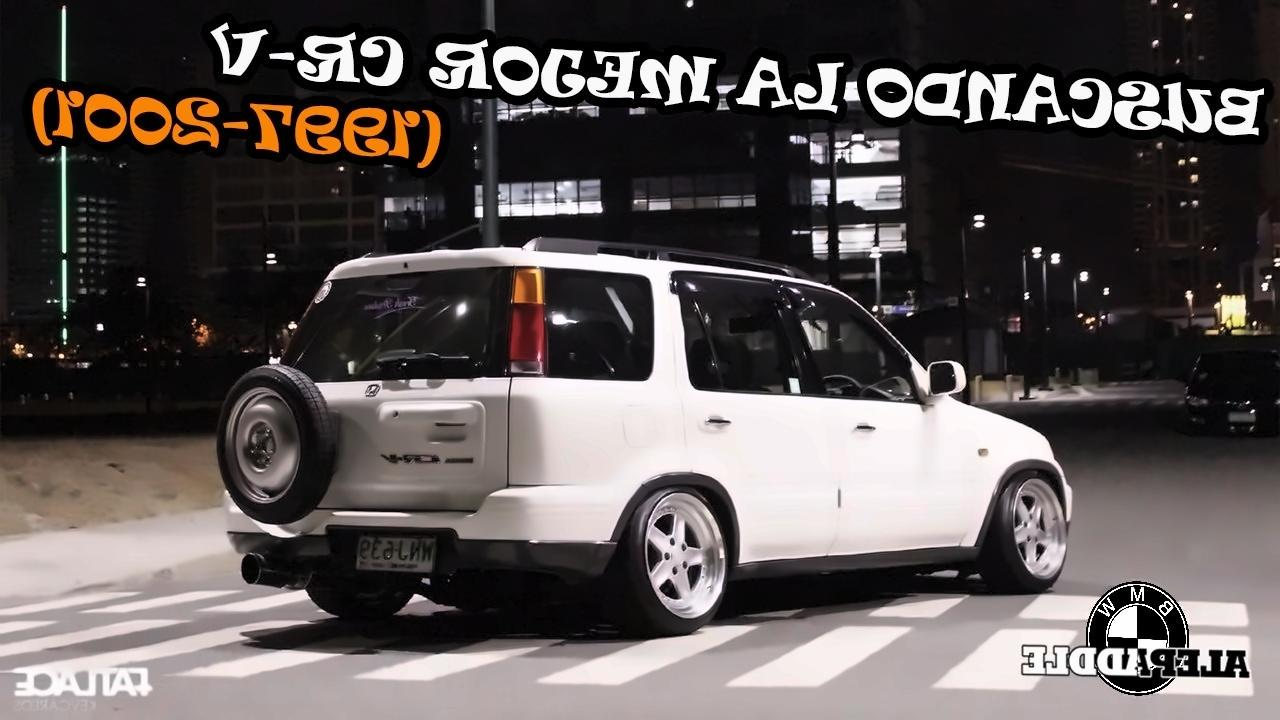Car boot: (271, 252, 515, 520)
Driver-s door - -F-R-: (791, 278, 957, 565)
Fender - -F-R-: (957, 405, 1050, 547)
Fender - -R-R-: (522, 378, 684, 493)
Front bumper: (1045, 443, 1087, 546)
Passenger-s door - -R-R-: (670, 273, 817, 565)
Rear bumper: (210, 478, 656, 589)
Rear light - -R-: (501, 258, 556, 381)
Side bumper - -R-: (722, 543, 986, 588)
Side mirror - -R-: (919, 345, 974, 409)
